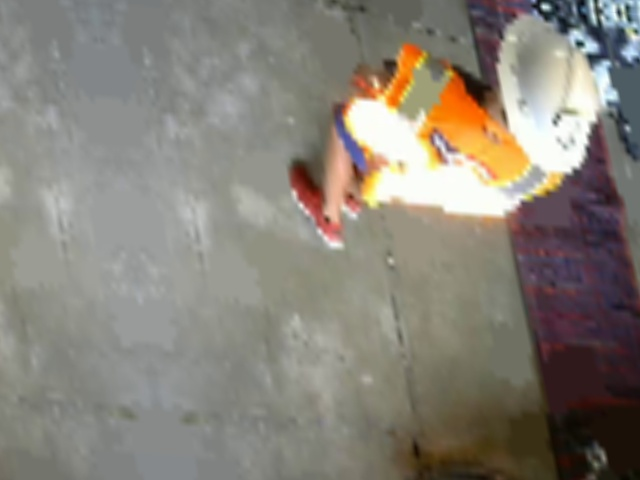two: (548, 111, 598, 153)
